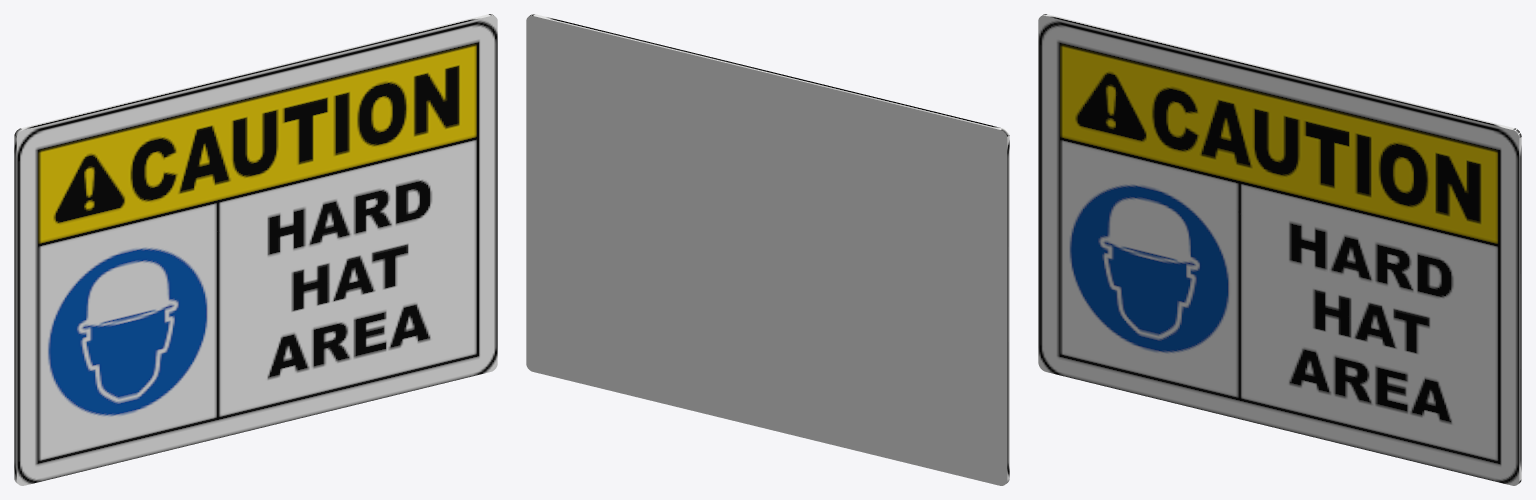
The picture shows the model from 3 angles, left to right: view 1: azimuth 30°, elevation 25°; view 2: azimuth 150°, elevation 25°; view 3: azimuth 330°, elevation 25°; orthographic projection.
Visible parts, largest first — view 1: Danger_sign; view 2: Danger_sign (×2); view 3: Danger_sign.
Part boxes in pixels (<box>): Danger_sign: <box>14,14,497,485</box>; Danger_sign (×2): <box>526,14,1009,485</box>; Danger_sign: <box>1038,14,1521,485</box>.
Size of the model in its own units: 11.63 by 0.1 by 8.22.
Materials: 2 (1 with a texture image).
